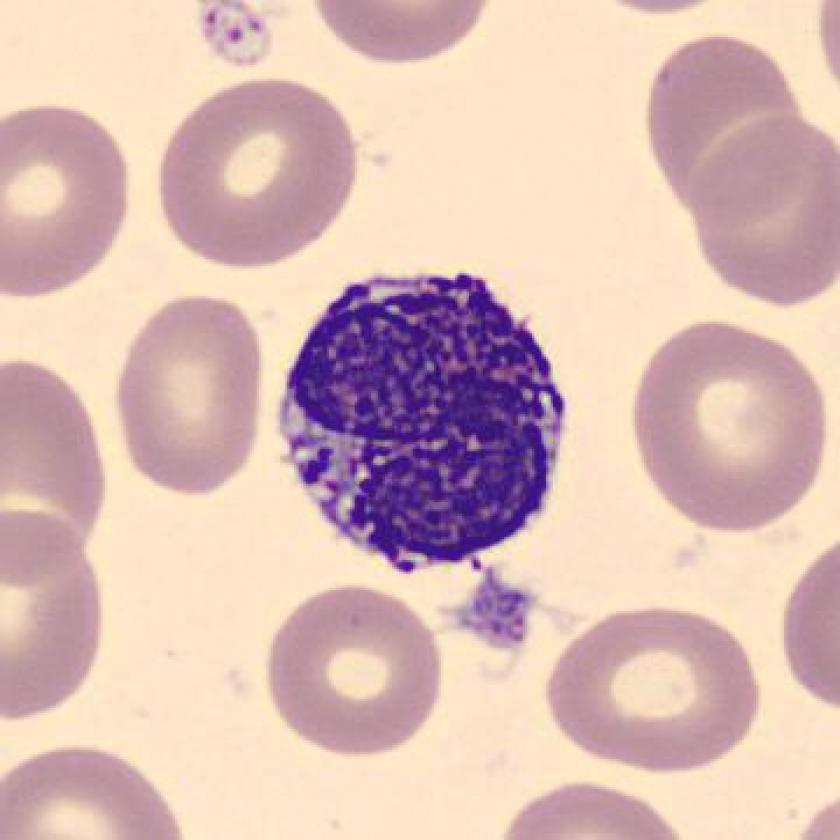basophil: (276, 262, 587, 589)
